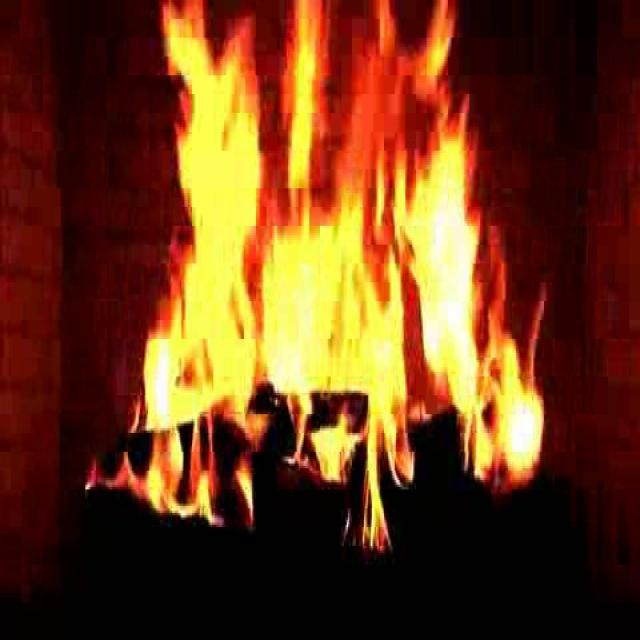fire: (132, 5, 553, 538)
